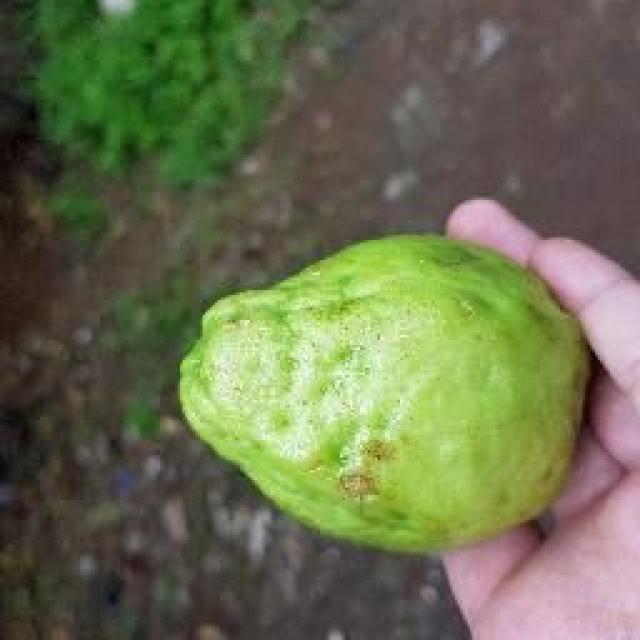Good_Guava: (178, 235, 592, 560)
